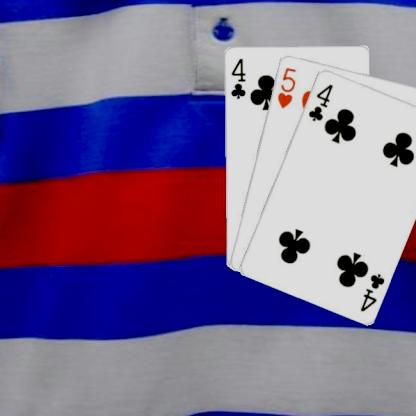4C: (357, 270, 386, 313), (305, 81, 334, 122), (228, 55, 246, 100)
5H: (274, 64, 298, 109)
